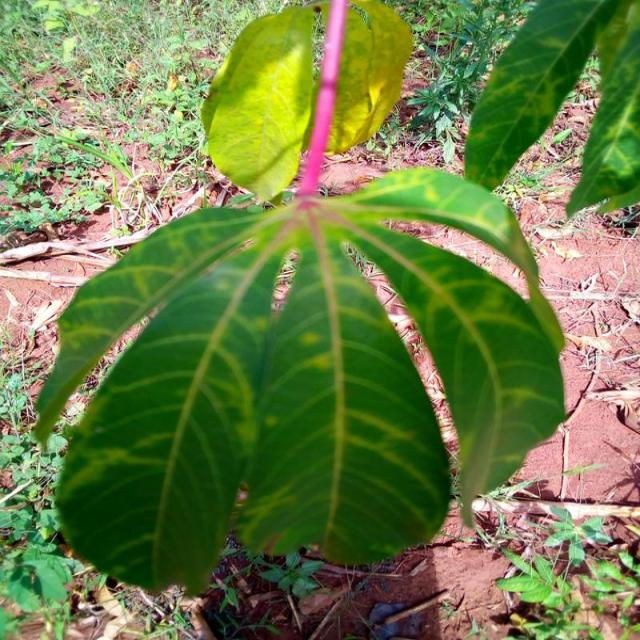cassava leaf: (40, 170, 566, 596), (51, 235, 280, 595), (234, 226, 452, 565), (199, 3, 316, 204), (301, 0, 414, 155)
